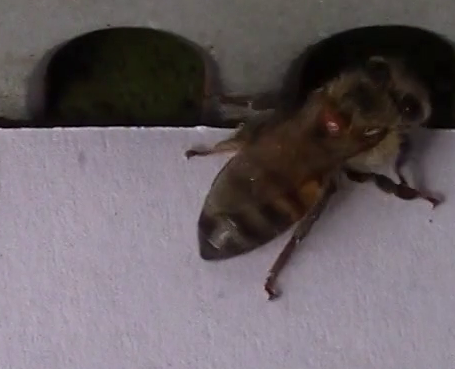Varroa destructor: (310, 103, 356, 140)
